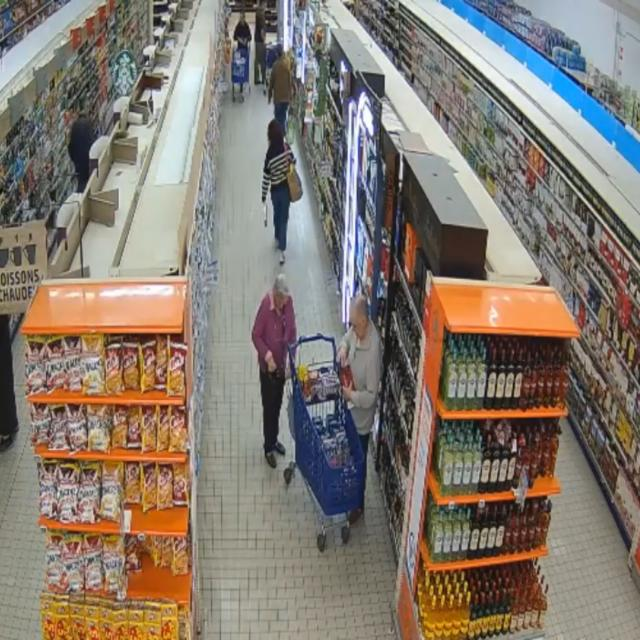article: (338, 361, 356, 390), (263, 202, 267, 226)
bags: (287, 157, 303, 202), (267, 366, 287, 385), (286, 117, 295, 143)
hands: (343, 383, 354, 401), (266, 353, 276, 372), (338, 347, 347, 368), (285, 360, 291, 379), (268, 95, 271, 104), (262, 200, 265, 205)
person: (338, 296, 381, 523), (252, 275, 297, 468), (262, 120, 295, 264), (0, 316, 18, 452), (67, 110, 94, 193), (268, 46, 292, 132)
